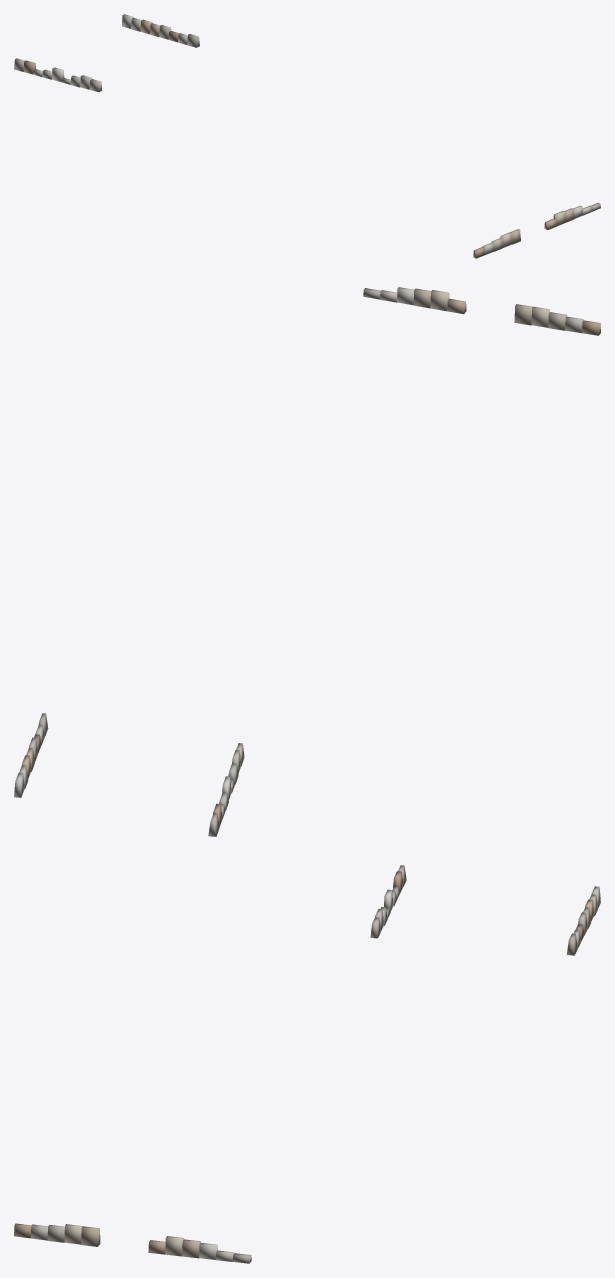
Rendered from farm_-11_-7_collision.glb.
3 renders of one model, top to bottom at view 1: azimuth 30°, elevation 25°; view 2: azimuth 150°, elevation 25°; view 3: azimuth 330°, elevation 25°, orthographic. The views are drawn at different scales.
Parts seen in each view (by area): view 1: geometry_0; view 2: geometry_0; view 3: geometry_0.
Part boxes in pixels (x1,y1,x2,y2): geometry_0: [14, 14, 600, 258]; geometry_0: [14, 287, 600, 836]; geometry_0: [14, 865, 600, 1263].
Size of the model in its own units: 35.9 by 8.83 by 95.09.
